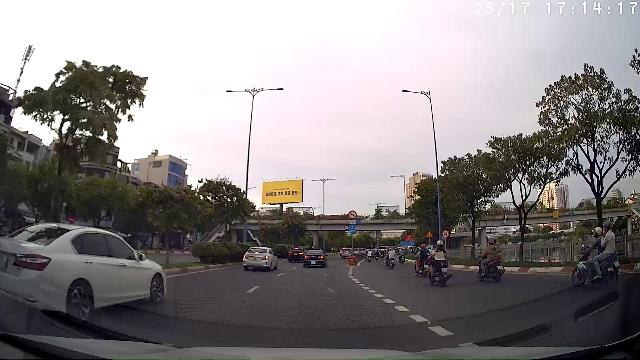103a-cam-oto: (442, 230, 450, 238)
